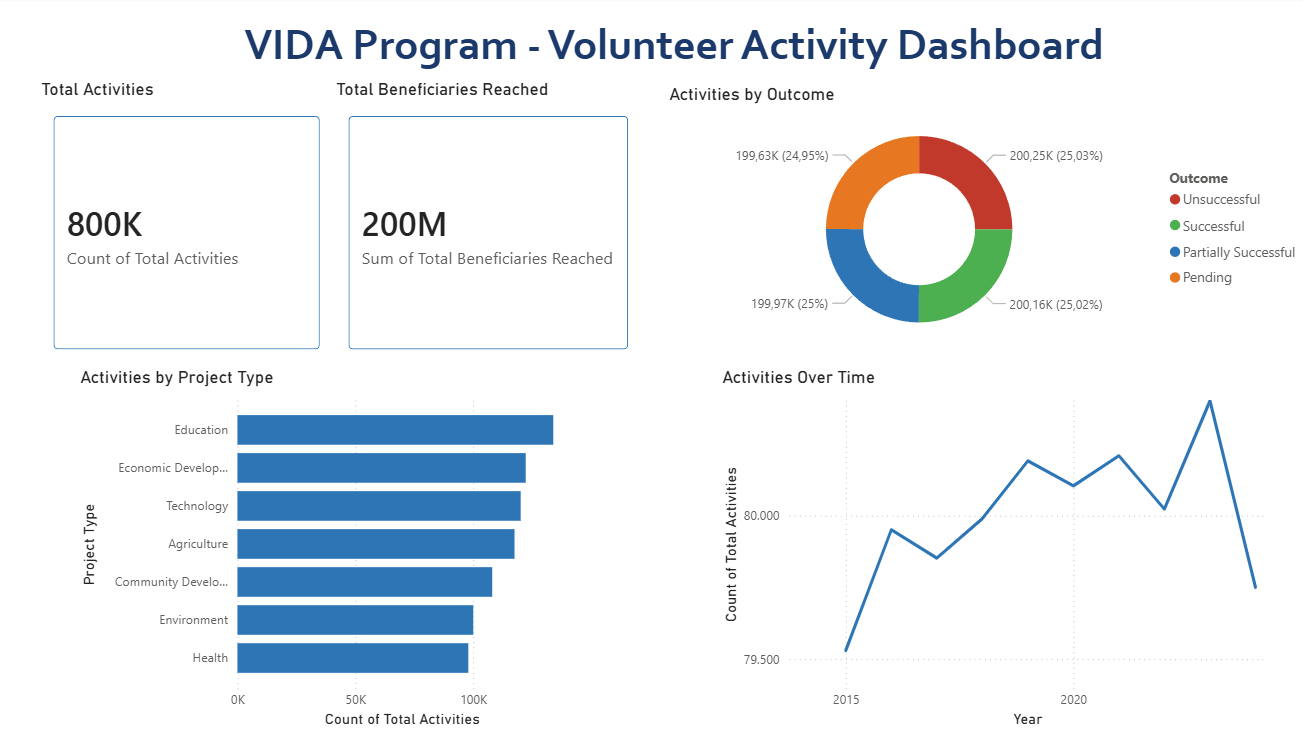

The dashboard page shown, as its layout file describes it:
{"tool":"powerbi","page":{"name":"Page 1","canvas":[1280,720],"ordinal":0},"visuals":[{"type":"cardVisual","title":"Total Activities","fields":{"Data":["CountNonNull(gold_fact_activity.activity_id)"]},"box":[39.9,79.8,293.7,280.1],"z":0},{"type":"cardVisual","title":"Total Beneficiaries Reached","fields":{"Data":["Sum(gold_fact_activity.beneficiaries_reached)"]},"box":[326.8,79.8,306.4,280.1],"z":1000},{"type":"clusteredBarChart","title":"Activities by Project Type","fields":{"Category":["gold_fact_activity.project_type"],"Y":["CountNonNull(gold_fact_activity.activity_id)"]},"box":[77.8,359.9,498,355],"z":2000},{"type":"lineChart","title":"Activities Over Time","fields":{"Category":["gold_date.year"],"Y":["CountNonNull(gold_fact_activity.activity_id)"]},"box":[702.2,359.9,541.8,355],"z":2001},{"type":"donutChart","title":"Activities by Outcome","fields":{"Category":["gold_fact_activity.outcome"],"Y":["CountNonNull(gold_fact_activity.activity_id)"]},"box":[650.7,84.6,628.3,263.6],"z":2002},{"type":"textbox","box":[237.3,14.6,851.1,62.2],"z":2003}]}

Visuals, with their boxes in screenshot pixels (x1, y1, x2, y2), scaled from the page's 1280x720 canvas onto the 1303x732 screenshot:
"Total Activities" cardVisual: [41,81,340,366]
"Total Beneficiaries Reached" cardVisual: [333,81,645,366]
"Activities by Project Type" clusteredBarChart: [79,366,586,727]
"Activities Over Time" lineChart: [715,366,1266,727]
"Activities by Outcome" donutChart: [662,86,1302,354]
textbox: [242,15,1108,78]
